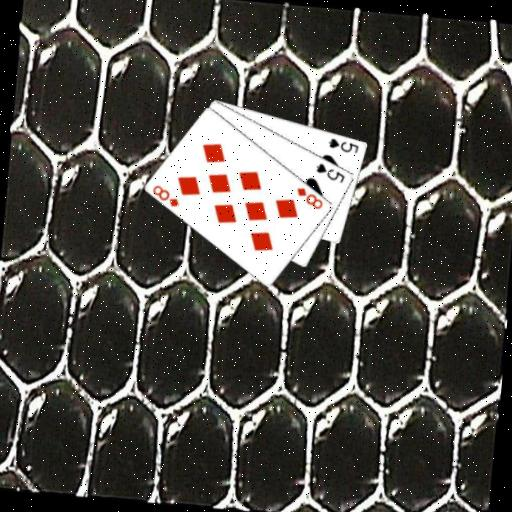5S: (313, 160, 348, 185), (325, 134, 361, 154)
8D: (293, 184, 327, 212), (149, 181, 183, 209)
